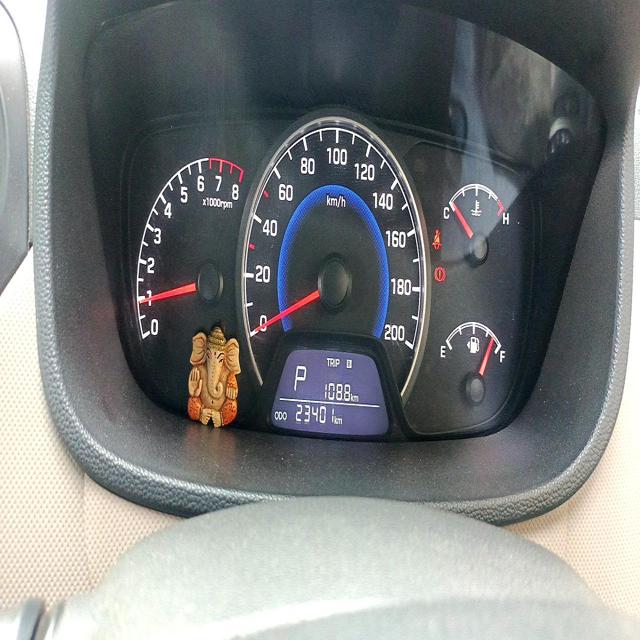odometer: (294, 400, 335, 426)
